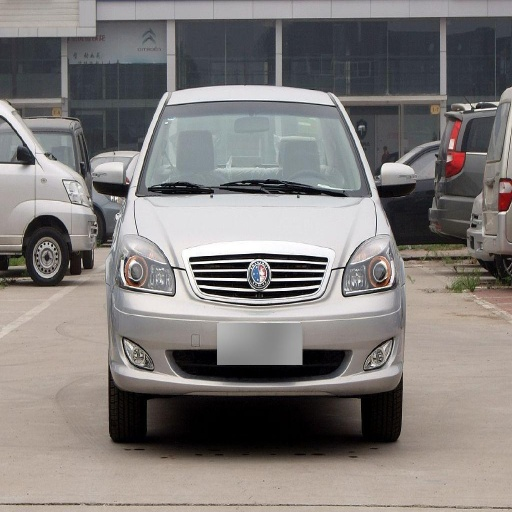front_bumper: (109, 257, 403, 395)
front_left_light: (346, 234, 399, 295)
front_right_door: (3, 118, 32, 233)
front_right_light: (121, 235, 173, 294)
hood: (133, 197, 377, 266)
left_mirror: (378, 161, 417, 197)
